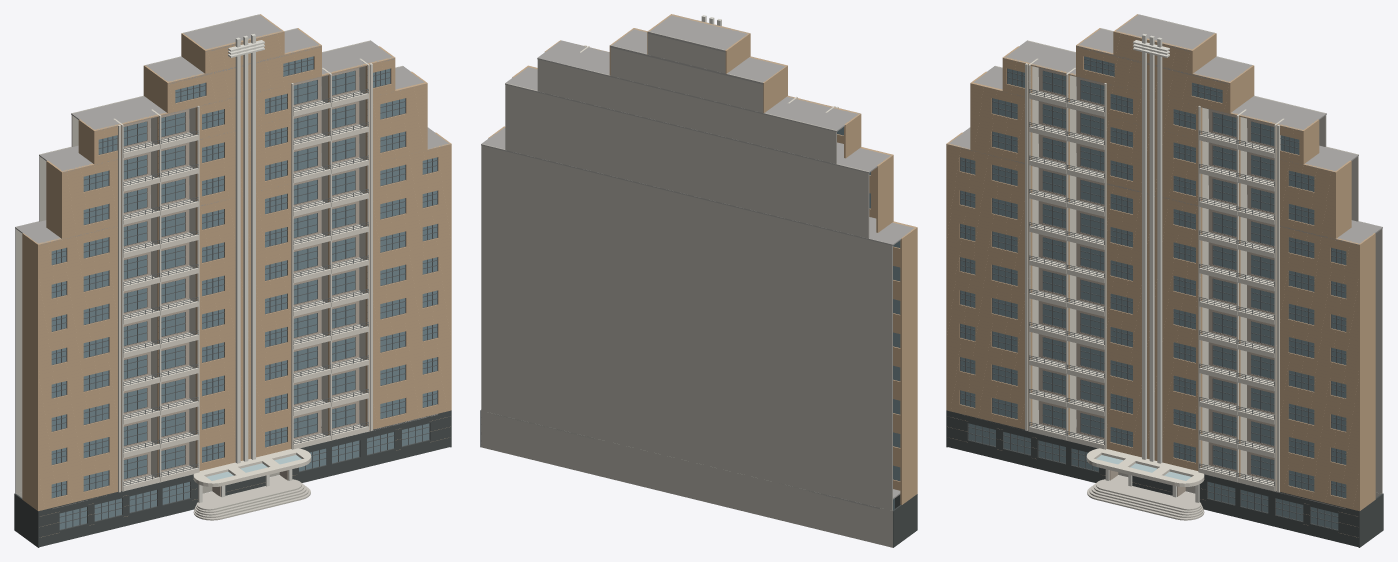
The model's file is xuhui-gascogne-apartments-main-building-raw.glb.
The picture shows the model from 3 angles, left to right: view 1: azimuth 30°, elevation 25°; view 2: azimuth 150°, elevation 25°; view 3: azimuth 330°, elevation 25°; orthographic projection.
Parts seen in each view (by area): view 1: 盖司康公寓主楼南向前院立面; view 2: 盖司康公寓主楼南向前院立面; view 3: 盖司康公寓主楼南向前院立面.
Boxes of the visible parts, left/top/right/bottom form: 盖司康公寓主楼南向前院立面: left=14, top=14, right=451, bottom=547; 盖司康公寓主楼南向前院立面: left=480, top=14, right=917, bottom=547; 盖司康公寓主楼南向前院立面: left=946, top=14, right=1383, bottom=547.
Bounding box in the file's own units: 49.26 × 52.51 × 8.55.
